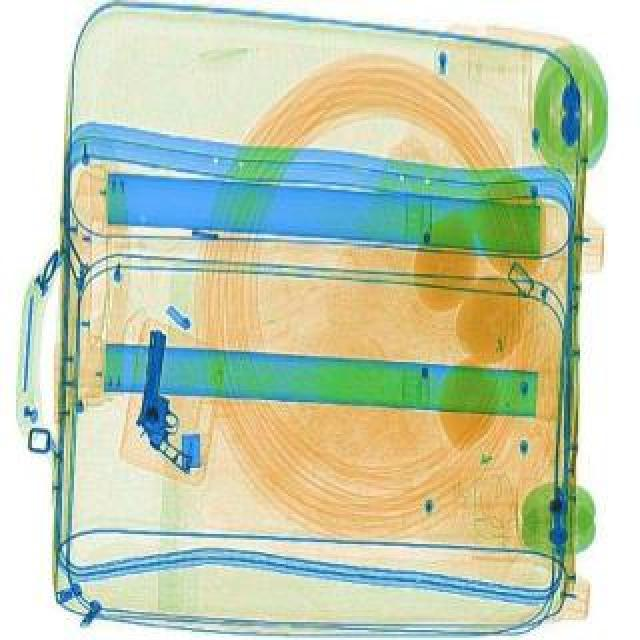gun: (122, 326, 194, 476)
